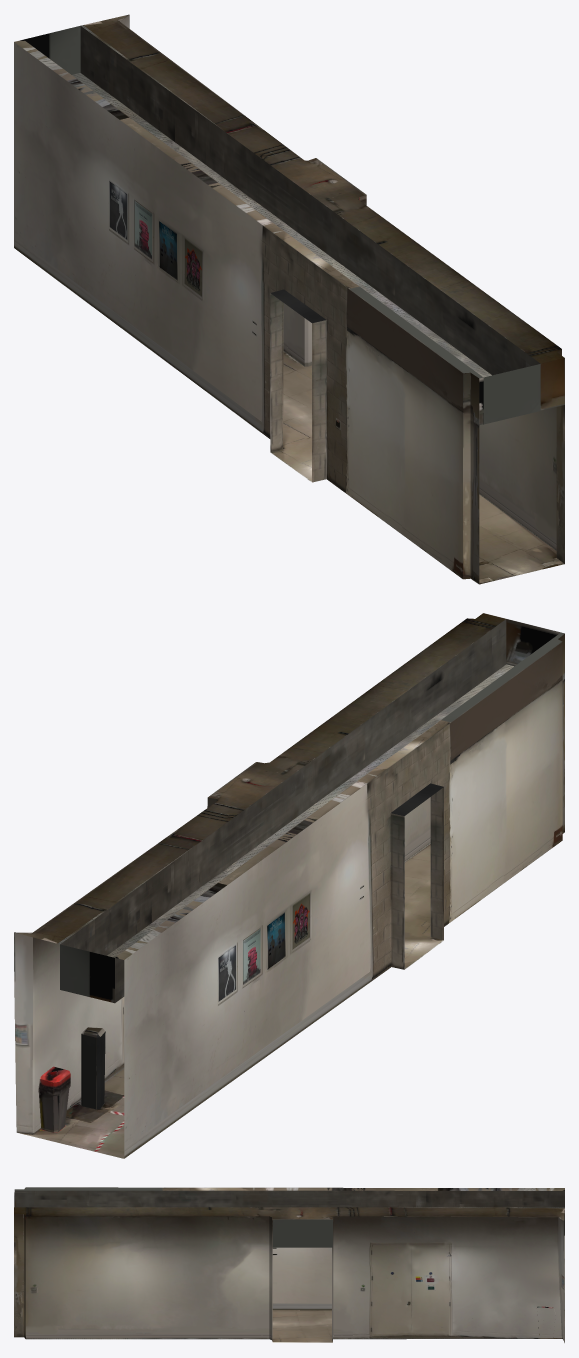
The model's file is 1-left-corr-newlLP.fbx.
3 renders of one model, top to bottom at view 1: azimuth 30°, elevation 25°; view 2: azimuth 150°, elevation 25°; view 3: azimuth 270°, elevation 25°, orthographic. The views are drawn at different scales.
Parts seen in each view (by area): view 1: 1-left-corr-newlLP; view 2: 1-left-corr-newlLP; view 3: 1-left-corr-newlLP.
Boxes of the visible parts, x1=… form: 1-left-corr-newlLP: x1=14, y1=14, x2=564, y2=584; 1-left-corr-newlLP: x1=14, y1=613, x2=564, y2=1158; 1-left-corr-newlLP: x1=14, y1=1187, x2=564, y2=1342.
Bounding box in the file's own units: 211 × 316 × 1277.
Materials: 1 (1 with a texture image).
